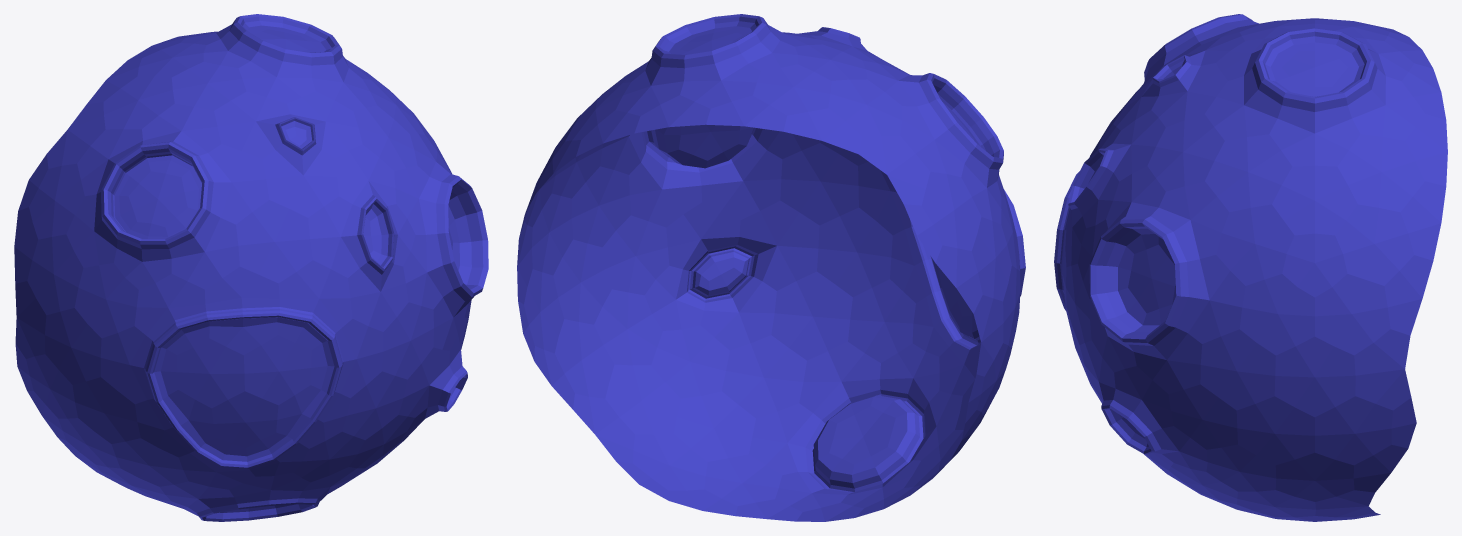
Rendered from education-planet.glb.
3 renders of one model, left to right at view 1: azimuth 30°, elevation 25°; view 2: azimuth 150°, elevation 25°; view 3: azimuth 270°, elevation 25°, orthographic. The views are drawn at different scales.
Visible parts, largest first — view 1: Icosphere; view 2: Icosphere; view 3: Icosphere.
Boxes of the visible parts, x1,y1,x2,y2 form: Icosphere: (14,14,488,521); Icosphere: (517,14,1025,521); Icosphere: (1054,14,1447,521).
Size of the model in its own units: 5.89 by 6.17 by 4.59.
